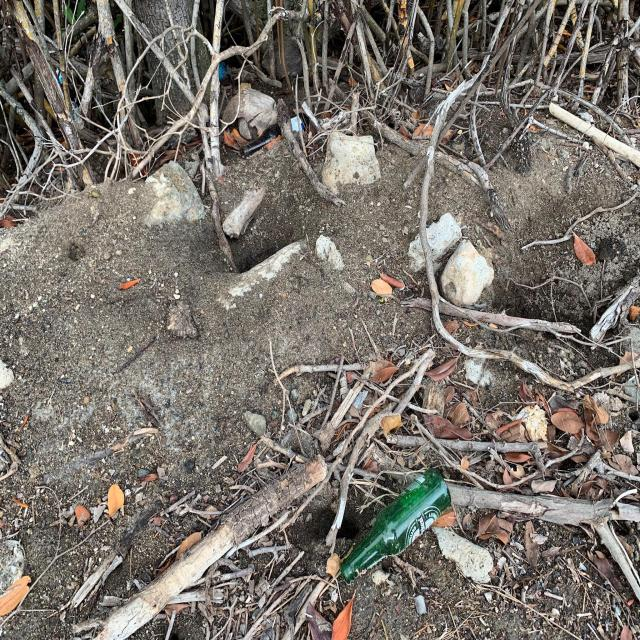litter: (340, 465, 451, 582), (239, 115, 304, 158), (71, 99, 78, 121), (57, 68, 62, 85)
